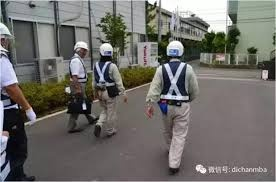white: (165, 39, 185, 62), (97, 40, 115, 62), (72, 40, 89, 59)
